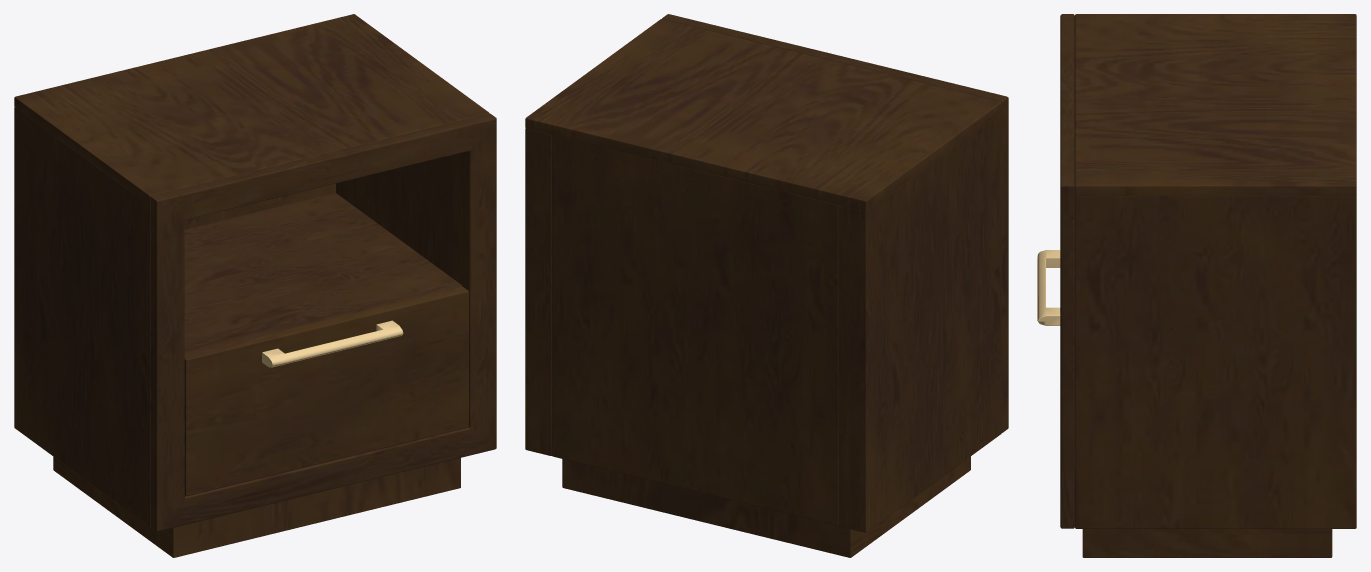
File: nightstand_abo_B07177355J.glb
3 renders of one model, left to right at view 1: azimuth 30°, elevation 25°; view 2: azimuth 150°, elevation 25°; view 3: azimuth 270°, elevation 25°, orthographic. The views are drawn at different scales.
Parts seen in each view (by area): view 1: RootNode; view 2: RootNode; view 3: RootNode.
Boxes of the visible parts, x1,y1,x2,y2 form: RootNode: [14, 14, 496, 557]; RootNode: [525, 14, 1008, 557]; RootNode: [1037, 14, 1356, 557].
Size of the model in its own units: 0.5602 by 0.5845 by 0.4387.
Materials: 1 (1 with a texture image).
